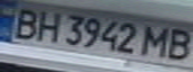2: (115, 19, 142, 55)
3: (60, 12, 84, 47)
4: (100, 18, 121, 53)
9: (78, 15, 103, 51)
B: (6, 4, 45, 40), (163, 26, 193, 62)
H: (30, 7, 63, 43)
M: (139, 23, 175, 57)
